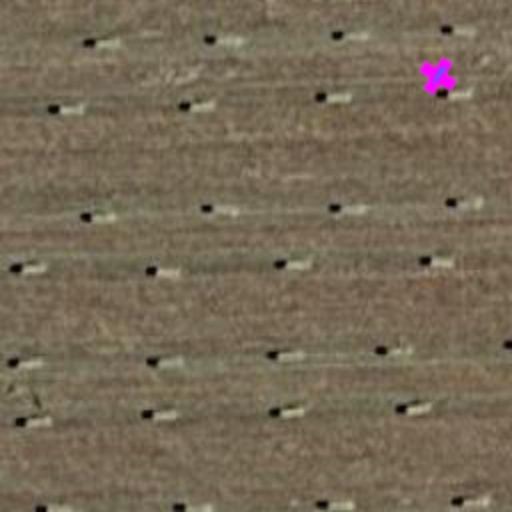cross: (412, 50, 464, 102)
